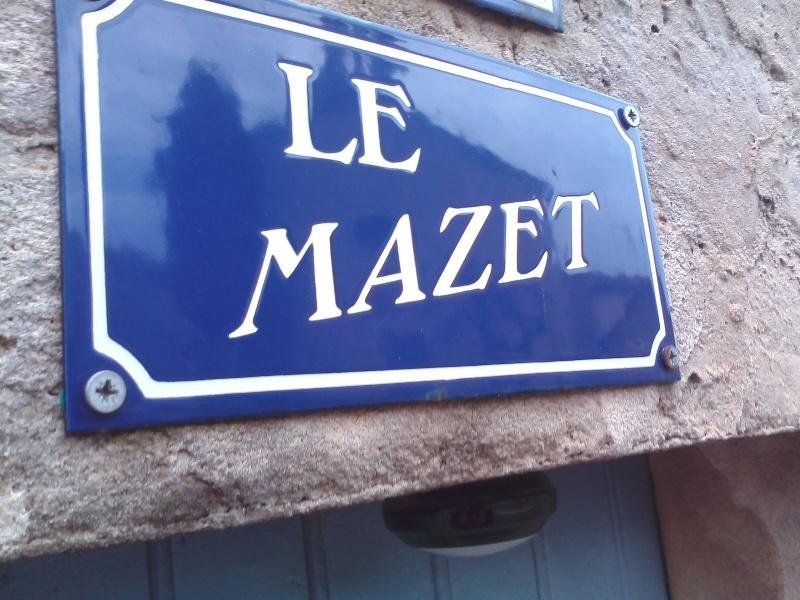text: (273, 190, 288, 343), (289, 190, 304, 343), (305, 190, 320, 343), (321, 190, 336, 343), (337, 190, 352, 343), (353, 190, 368, 343), (369, 190, 384, 343), (385, 190, 400, 343), (401, 190, 416, 343), (417, 190, 432, 343), (433, 190, 448, 343), (449, 190, 464, 343), (465, 190, 480, 343), (481, 190, 496, 343), (497, 190, 512, 343), (513, 190, 528, 343), (529, 190, 544, 343), (545, 190, 560, 343), (561, 190, 576, 343), (577, 190, 592, 343), (273, 56, 288, 180), (289, 56, 304, 180), (305, 56, 320, 180), (321, 56, 336, 180), (337, 56, 352, 180), (353, 56, 368, 180), (369, 56, 384, 180), (385, 56, 400, 180), (401, 56, 416, 180), (261, 190, 272, 343), (417, 56, 430, 180), (593, 190, 602, 343)
